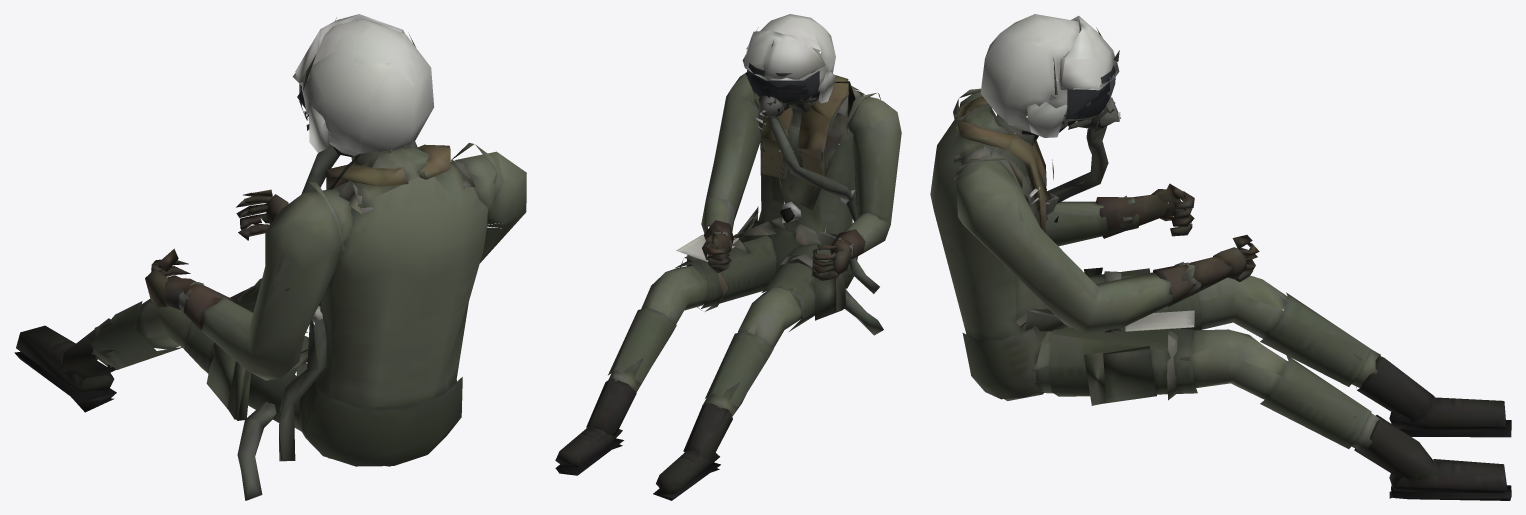
Rendered from pilot_lod1.glb.
3 renders of one model, left to right at view 1: azimuth 30°, elevation 25°; view 2: azimuth 150°, elevation 25°; view 3: azimuth 270°, elevation 25°, orthographic. The views are drawn at different scales.
Visible parts, largest first — view 1: pilot_body, pilot_head; view 2: pilot_body, pilot_head, pilot_visor; view 3: pilot_body, pilot_head, pilot_visor.
Boxes of the visible parts, x1=… form: pilot_body: x1=14, y1=140, x2=526, y2=500; pilot_head: x1=292, y1=14, x2=433, y2=194; pilot_body: x1=555, y1=72, x2=901, y2=500; pilot_head: x1=742, y1=14, x2=855, y2=200; pilot_visor: x1=747, y1=62, x2=819, y2=102; pilot_body: x1=930, y1=88, x2=1511, y2=500; pilot_head: x1=980, y1=14, x2=1120, y2=211; pilot_visor: x1=1065, y1=65, x2=1115, y2=119.
Bounding box in the file's own units: 0.6404 × 1.14 × 1.34.
2 materials, 1 textured.
